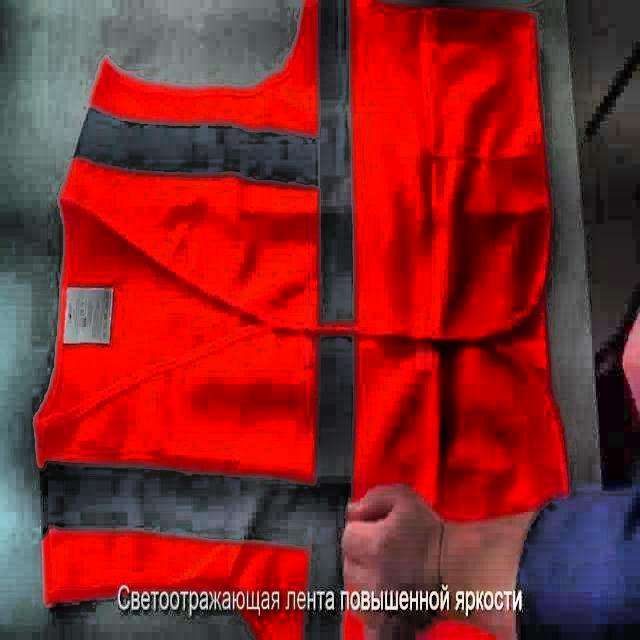safety_jacket: (33, 0, 572, 640)
